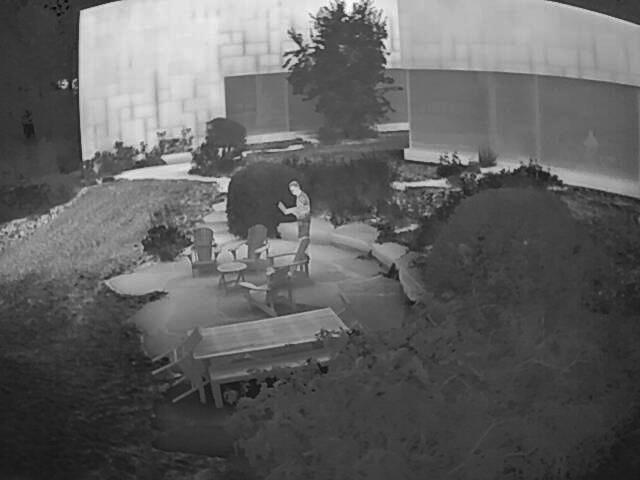person: (287, 178, 311, 264)
